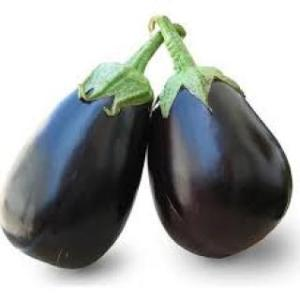eggplant: (3, 65, 153, 267), (146, 62, 288, 258)
